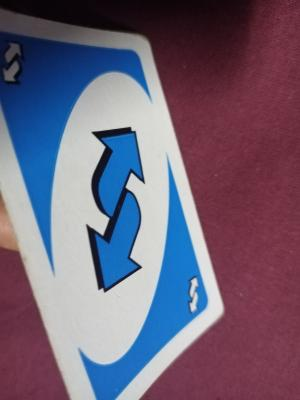blue: (42, 51, 155, 302)
reverse: (2, 39, 24, 87), (183, 274, 207, 318)
